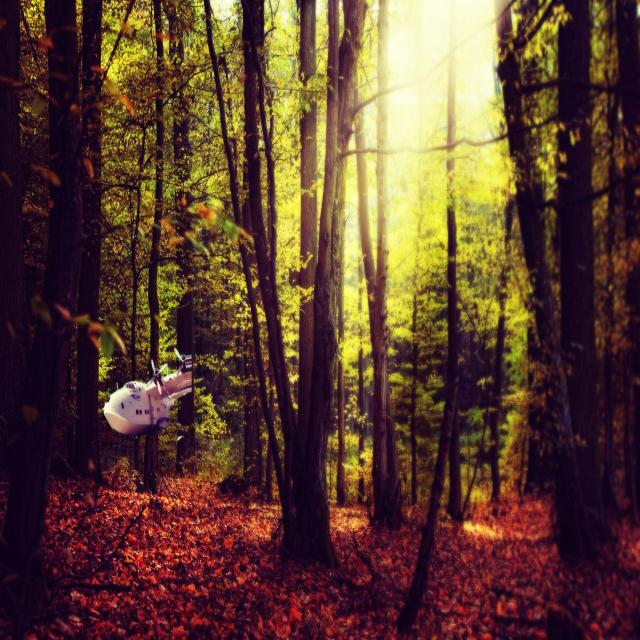airplane: (102, 347, 192, 439)
